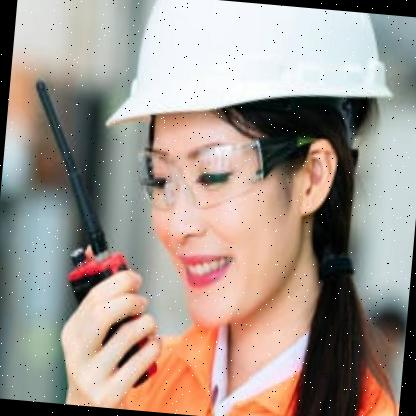capacete: (105, 0, 401, 118)
oculos: (132, 130, 302, 223)
